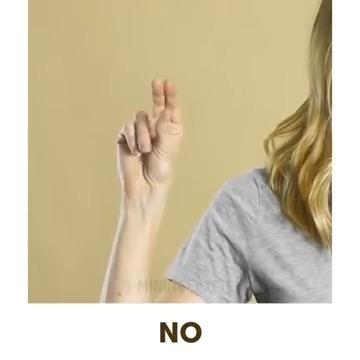No: (83, 61, 197, 218)
